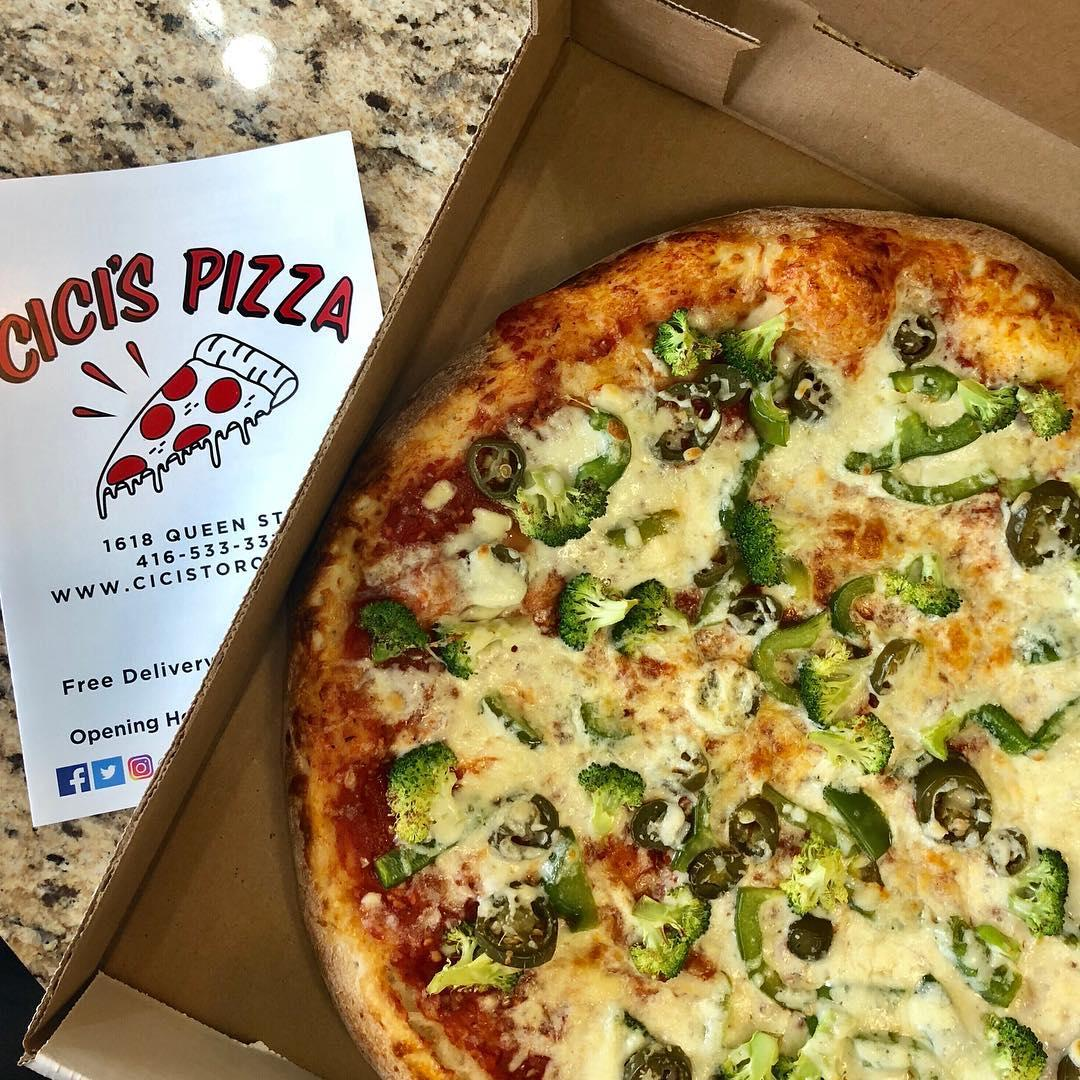Broccoli: (353, 595, 476, 680), (554, 569, 669, 650), (955, 374, 1080, 444), (385, 742, 464, 851), (629, 888, 706, 982), (1009, 844, 1070, 945), (880, 550, 961, 626), (523, 473, 613, 541), (727, 490, 788, 590), (784, 837, 855, 919), (721, 1029, 827, 1080), (985, 1009, 1055, 1080), (577, 754, 640, 830), (652, 302, 720, 372), (428, 937, 511, 993), (725, 305, 788, 376), (805, 647, 855, 733), (853, 710, 895, 780)
Cheese: (835, 987, 969, 1033), (967, 569, 1080, 622), (562, 976, 616, 1080), (928, 629, 999, 702), (793, 479, 876, 541), (882, 509, 1002, 551), (1003, 762, 1080, 825), (894, 865, 989, 911), (847, 929, 926, 976), (634, 466, 718, 507), (487, 623, 544, 680), (840, 379, 889, 440), (482, 569, 514, 608)
Peppers: (840, 405, 989, 475), (913, 756, 995, 854), (877, 457, 1008, 513), (733, 885, 790, 1013), (1008, 473, 1080, 573), (963, 701, 1080, 758), (487, 891, 559, 970), (550, 829, 598, 940), (757, 617, 812, 710), (455, 433, 523, 506), (580, 407, 633, 496), (475, 689, 545, 751), (493, 789, 560, 851), (602, 500, 682, 551), (745, 373, 794, 448), (730, 792, 781, 856), (831, 569, 875, 641), (787, 909, 837, 968), (689, 846, 745, 896), (625, 1039, 691, 1080), (889, 367, 961, 402), (895, 311, 939, 367), (730, 590, 775, 628)
Pizza: (313, 208, 1080, 1080)
